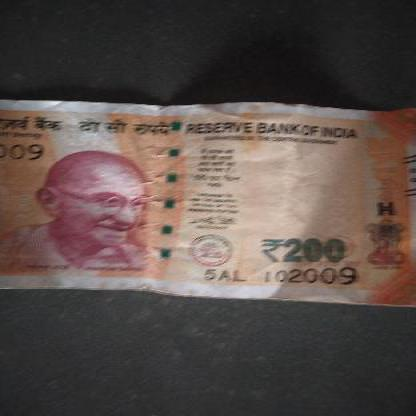New200Front: (0, 98, 415, 296)
